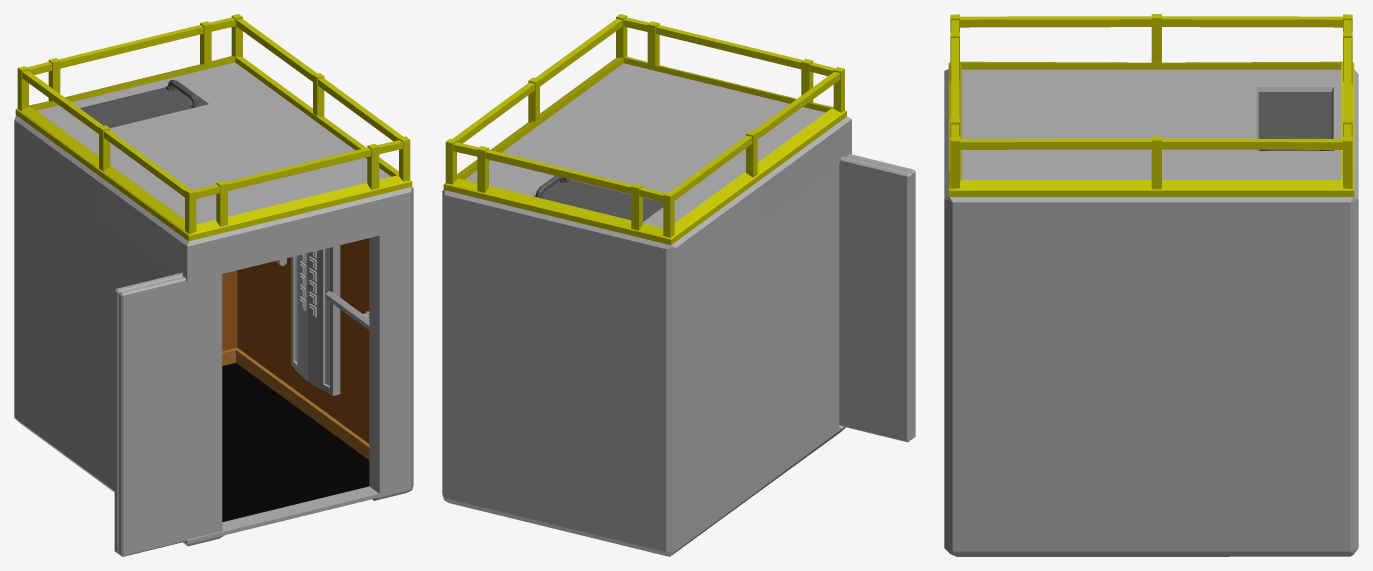
The model's file is Elevator.fbx.
The picture shows the model from 3 angles, left to right: view 1: azimuth 30°, elevation 25°; view 2: azimuth 150°, elevation 25°; view 3: azimuth 270°, elevation 25°; orthographic projection. The views are drawn at different scales.
Parts seen in each view (by area): view 1: Cart_Elevator, Door_Cube, SafetyRamps, Console_Buttons, Trap, Buttons, Handles_Cylinder; view 2: Cart_Elevator, SafetyRamps, Door_Cube, Trap; view 3: Cart_Elevator, SafetyRamps, Trap.
Part boxes in pixels (x1,y1,x2,y2): Cart_Elevator: [14, 62, 413, 546]; Door_Cube: [114, 272, 222, 556]; SafetyRamps: [15, 14, 412, 241]; Console_Buttons: [291, 245, 340, 395]; Trap: [80, 80, 203, 128]; Buttons: [299, 251, 316, 317]; Handles_Cylinder: [275, 258, 369, 329]; Cart_Elevator: [442, 63, 851, 556]; SafetyRamps: [443, 14, 846, 245]; Door_Cube: [839, 154, 915, 442]; Trap: [533, 176, 663, 221]; Cart_Elevator: [944, 69, 1358, 556]; SafetyRamps: [948, 14, 1354, 196]; Trap: [1258, 92, 1331, 150].
Size of the model in its own units: 297 by 343 by 309.
